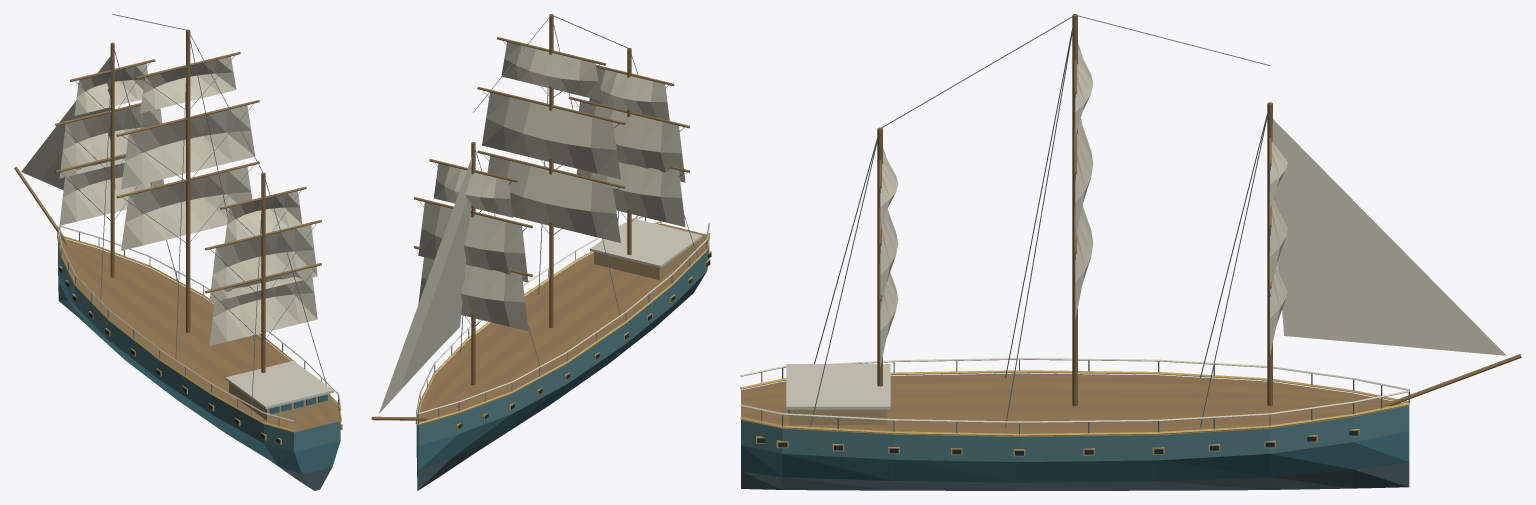
3 views of the same model, side by side, from view 1: azimuth 30°, elevation 25°; view 2: azimuth 150°, elevation 25°; view 3: azimuth 270°, elevation 25° (orthographic). The views are drawn at different scales.
Visible parts, largest first — view 1: Visual; view 2: Visual; view 3: Visual.
Boxes of the visible parts, bbox=[...] form: Visual: bbox=[14, 14, 342, 490]; Visual: bbox=[371, 14, 711, 490]; Visual: bbox=[740, 14, 1521, 490].
Bounding box in the file's own units: 15.2 × 37.43 × 56.11.
